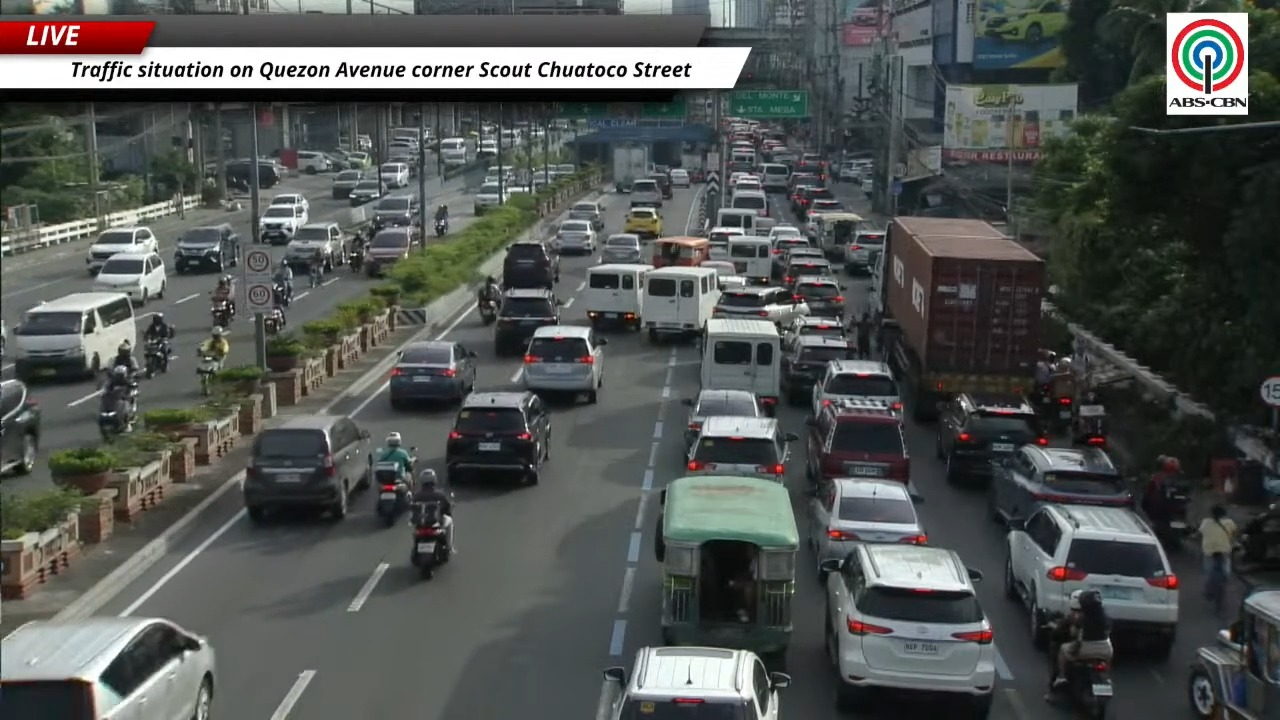car: (820, 543, 996, 718), (1004, 504, 1178, 657), (0, 616, 218, 719), (599, 646, 790, 719), (242, 414, 370, 522), (988, 444, 1133, 521), (808, 477, 927, 563), (936, 392, 1048, 482), (446, 390, 550, 484), (806, 399, 909, 484), (684, 416, 797, 482), (521, 325, 607, 403), (388, 340, 476, 408), (781, 334, 855, 404), (811, 360, 901, 415), (682, 389, 765, 447), (494, 288, 560, 356), (92, 253, 166, 305), (712, 286, 808, 326), (0, 380, 40, 474), (981, 0, 1066, 42), (173, 223, 240, 273), (86, 227, 157, 274), (284, 223, 345, 271), (502, 239, 559, 290), (788, 275, 844, 322), (365, 227, 413, 276), (771, 236, 824, 280), (781, 316, 847, 351), (259, 205, 307, 244), (844, 230, 885, 274), (782, 254, 835, 287), (225, 159, 283, 189), (805, 199, 845, 238), (373, 195, 420, 228), (553, 219, 595, 254), (776, 237, 824, 267), (473, 181, 513, 216), (793, 186, 836, 215), (601, 233, 641, 263), (795, 185, 837, 213), (623, 207, 662, 237), (568, 201, 603, 231), (348, 177, 384, 206), (629, 178, 663, 207), (332, 170, 363, 199), (297, 150, 332, 174), (378, 162, 409, 188), (790, 185, 814, 217), (270, 193, 308, 212), (788, 172, 818, 194), (768, 224, 802, 241), (650, 172, 672, 198), (734, 176, 762, 193), (836, 161, 859, 181), (345, 151, 371, 168), (669, 169, 690, 187), (860, 176, 873, 195)
motorcycle: (1140, 476, 1194, 551), (1052, 659, 1113, 719), (370, 448, 415, 526), (1232, 504, 1279, 572), (410, 503, 451, 579), (98, 380, 137, 441), (1072, 400, 1107, 447), (1042, 394, 1073, 434), (143, 338, 170, 378), (196, 353, 221, 395), (264, 306, 286, 335), (211, 298, 233, 326), (273, 280, 291, 307), (478, 299, 497, 324), (348, 250, 364, 274), (309, 266, 322, 287), (434, 218, 447, 237)
truck: (872, 216, 1045, 421), (611, 143, 650, 192), (680, 151, 704, 181)
